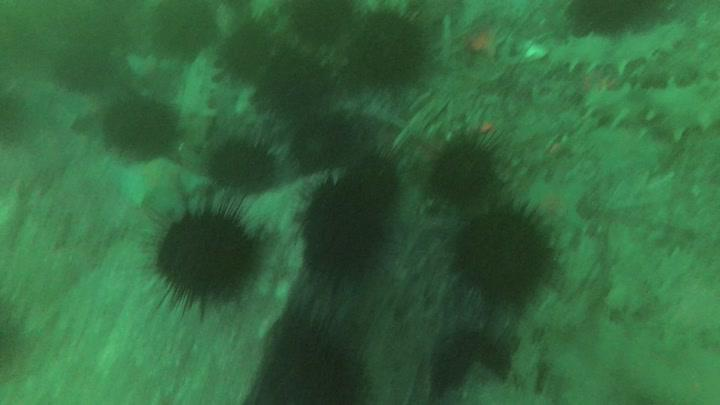urchin: (146, 210, 265, 306), (261, 323, 394, 405), (298, 175, 390, 287), (459, 210, 561, 305), (416, 134, 502, 202), (349, 20, 428, 92), (244, 59, 336, 115), (200, 134, 271, 197), (98, 100, 182, 153), (283, 112, 362, 164), (210, 25, 285, 77), (291, 2, 346, 51)
